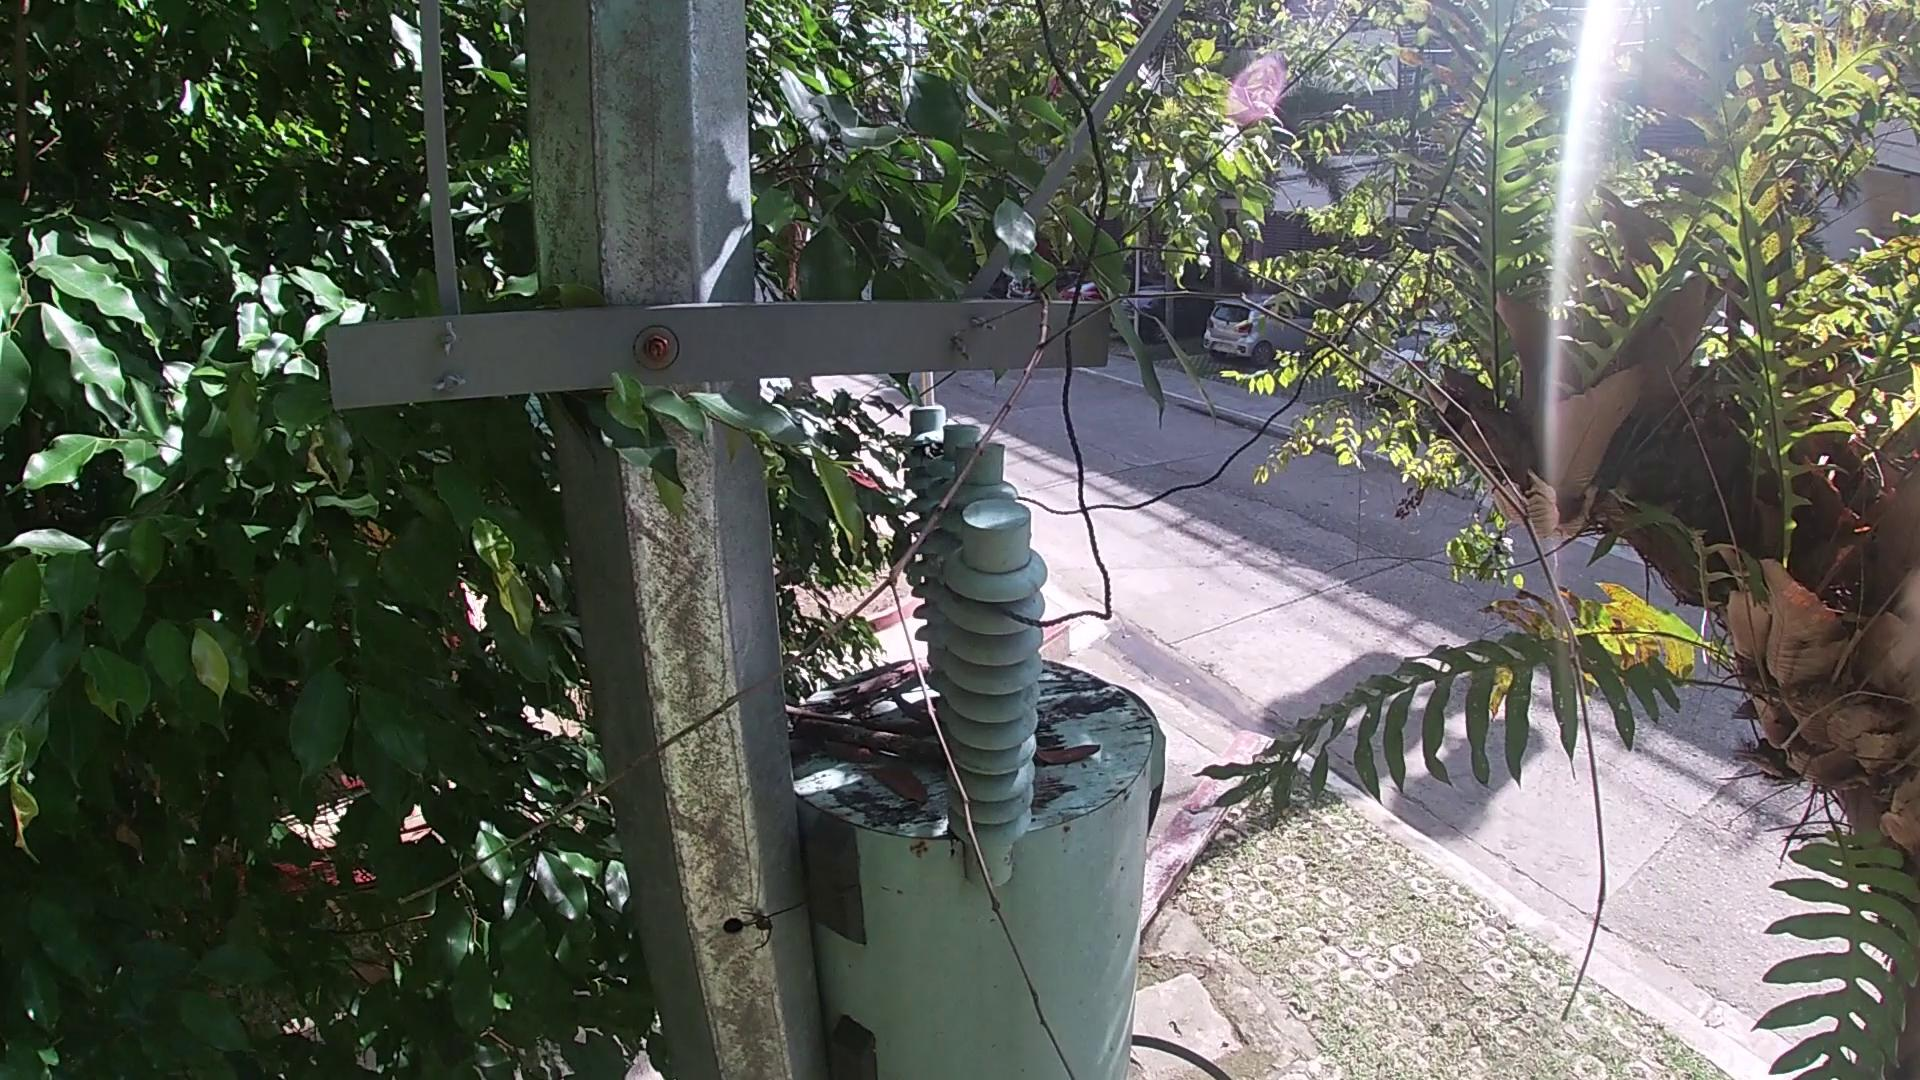leaf: (853, 760, 931, 806), (1033, 740, 1106, 767), (822, 738, 880, 766)
tree branch: (388, 236, 1621, 1075), (786, 712, 949, 766), (828, 657, 934, 716)
